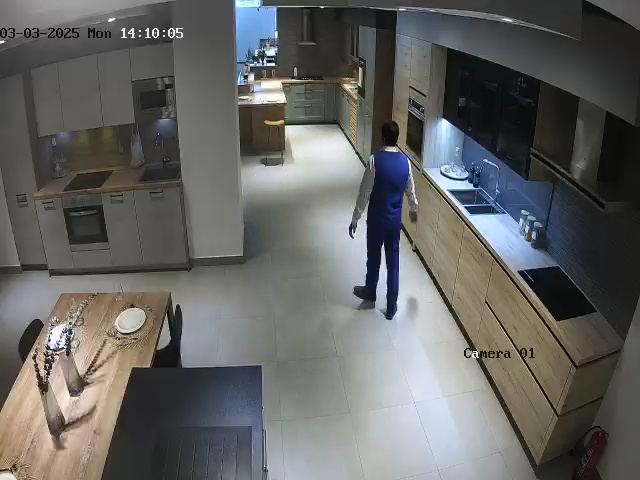employee: (348, 120, 419, 321)
